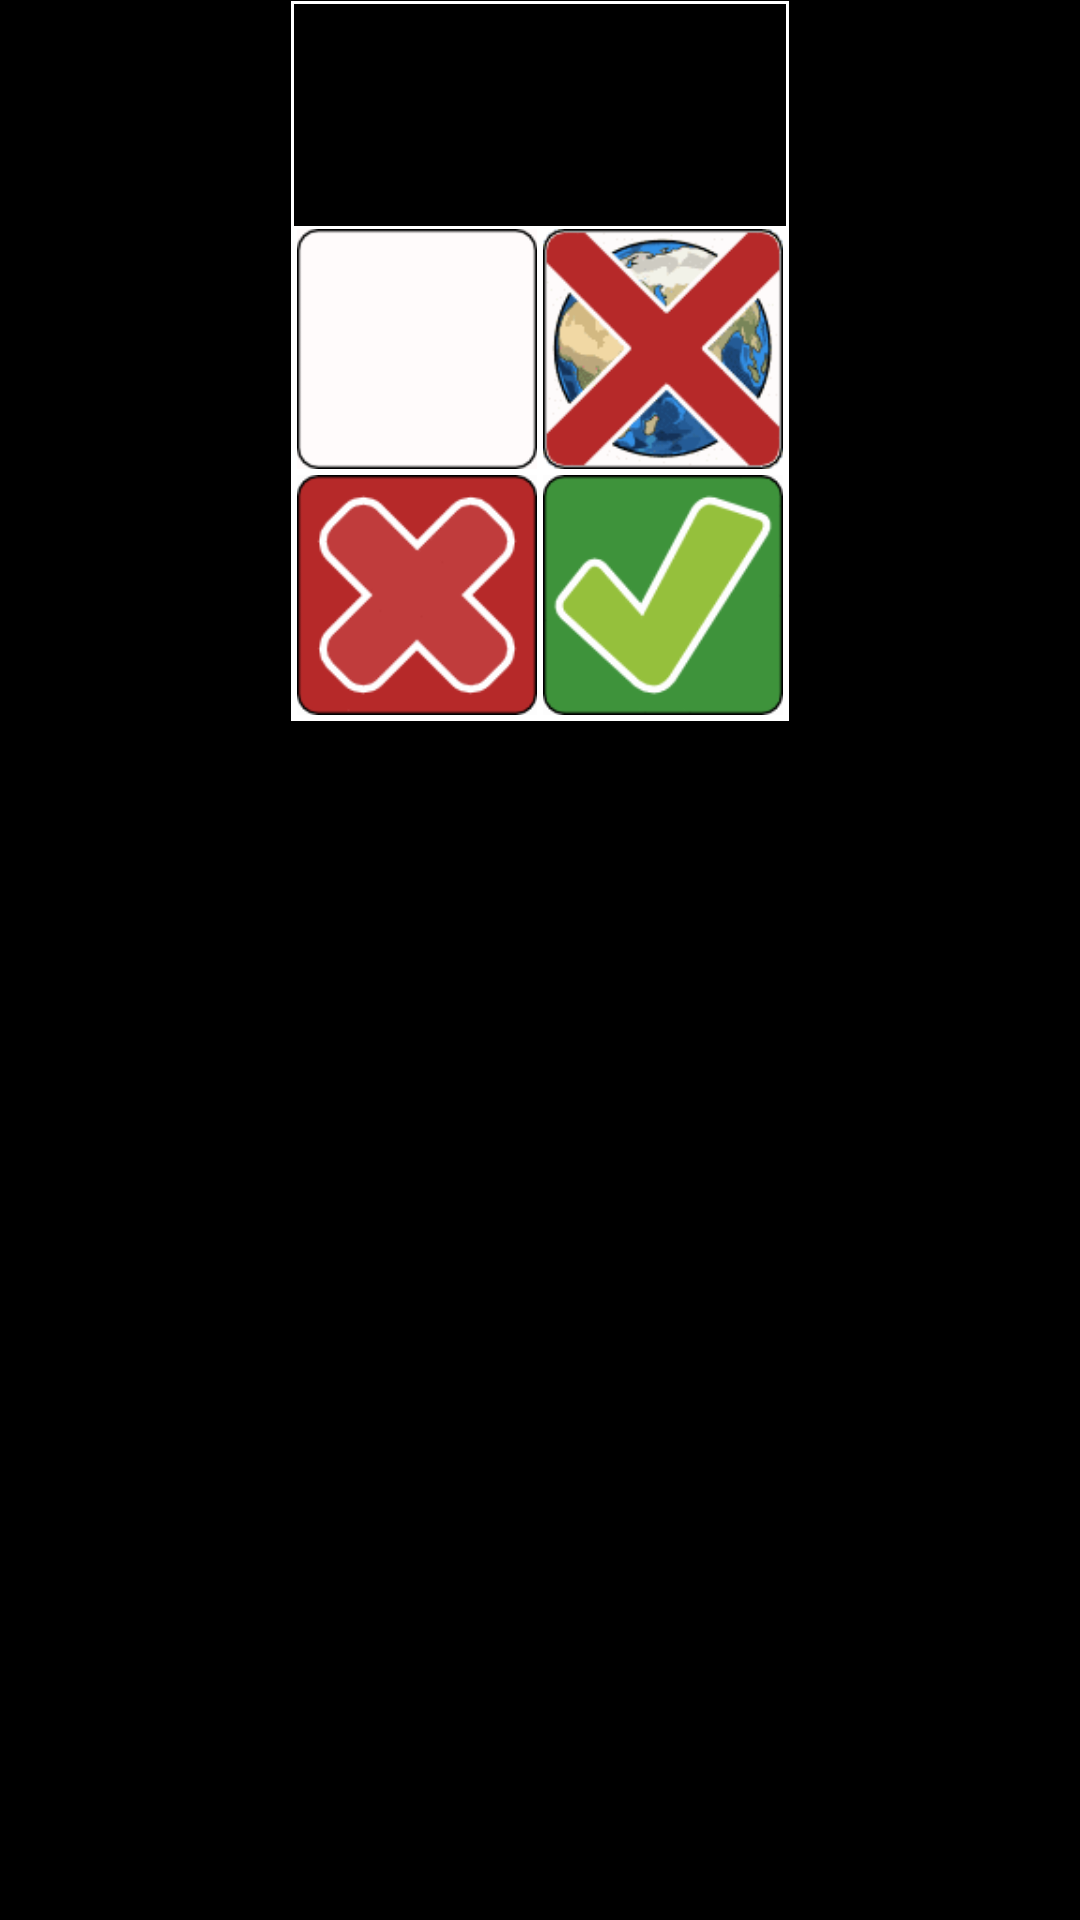

Named icons in this screenshot (1080*1920) and their bounding boxes, bbox(x1, y1, x2, y2):
iconannul: bbox(297, 475, 537, 715)
iconearthoff: bbox(543, 229, 783, 469)
iconvalidon: bbox(543, 475, 783, 715)
